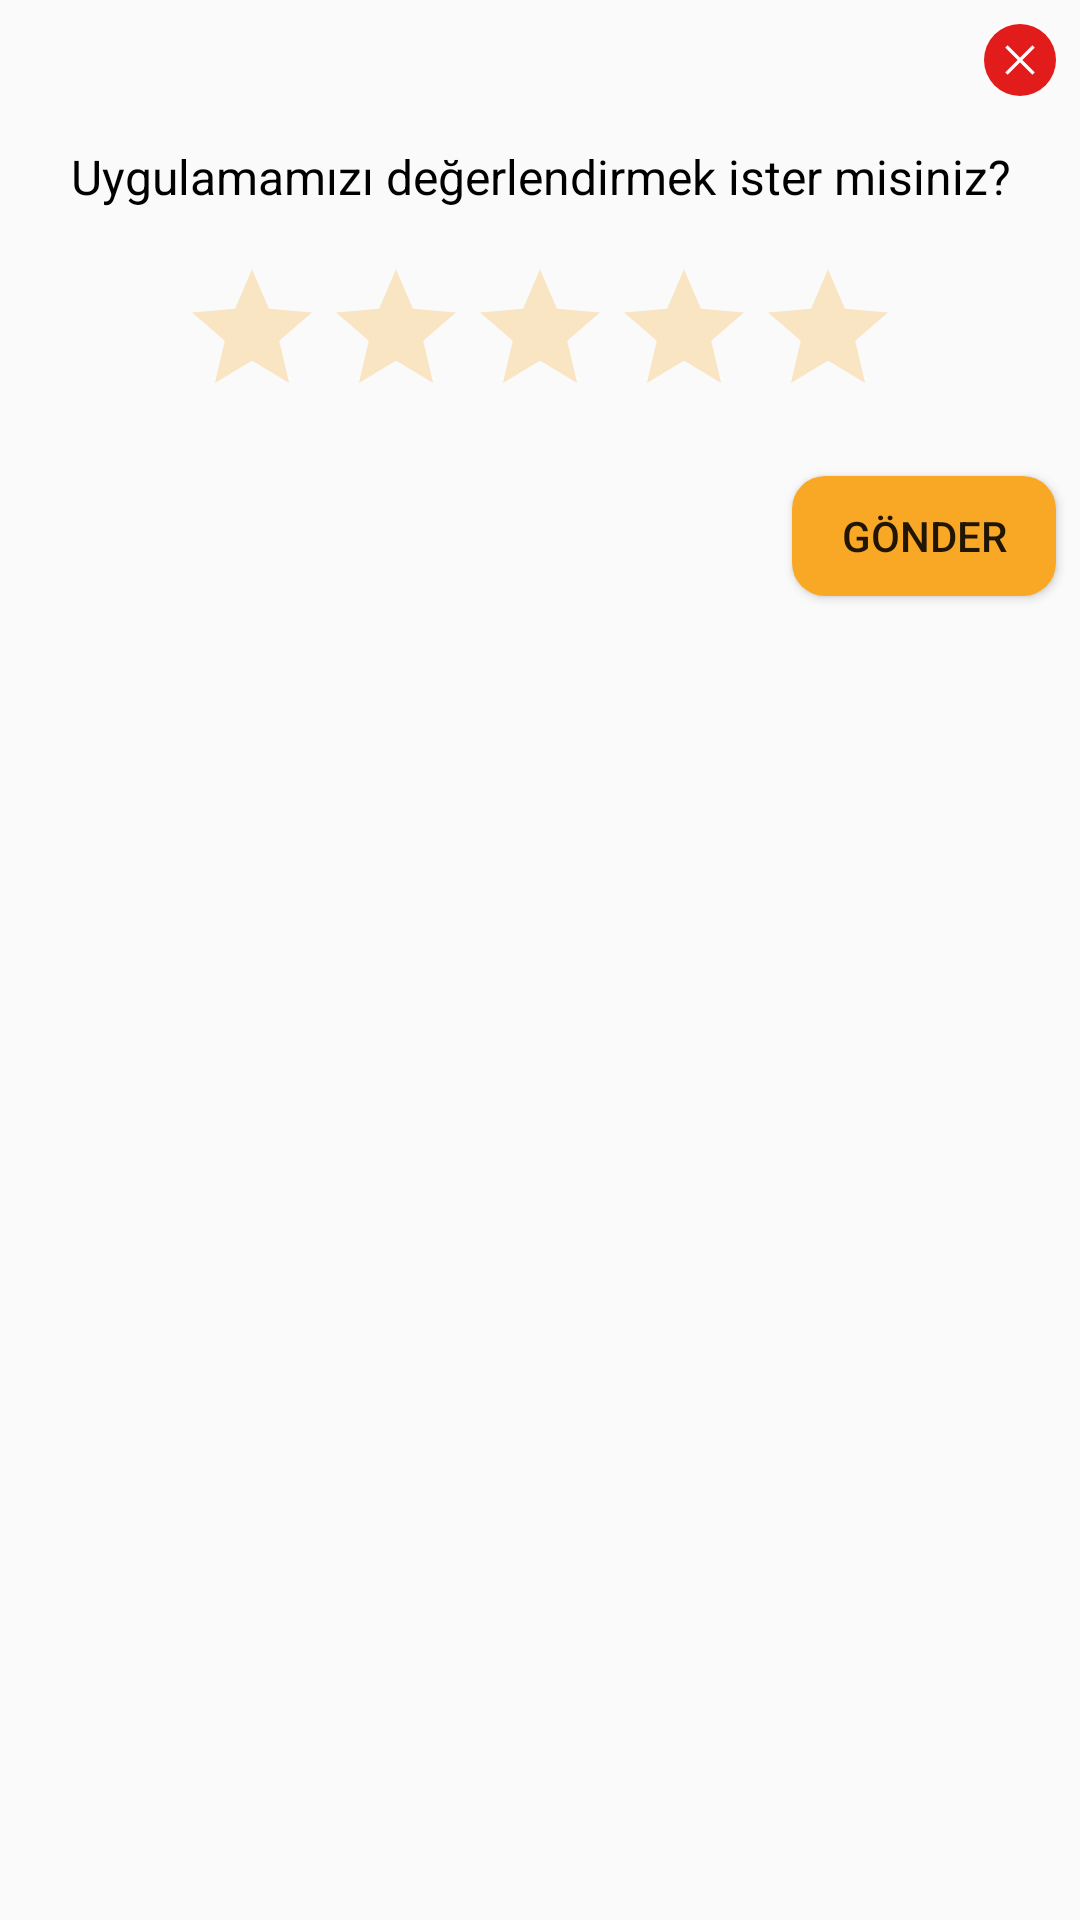

Icons on this 1080 x 1920 Android screen, each with its box as (x1, y1, x2, y2):
cancel: (984, 24, 1056, 96)
